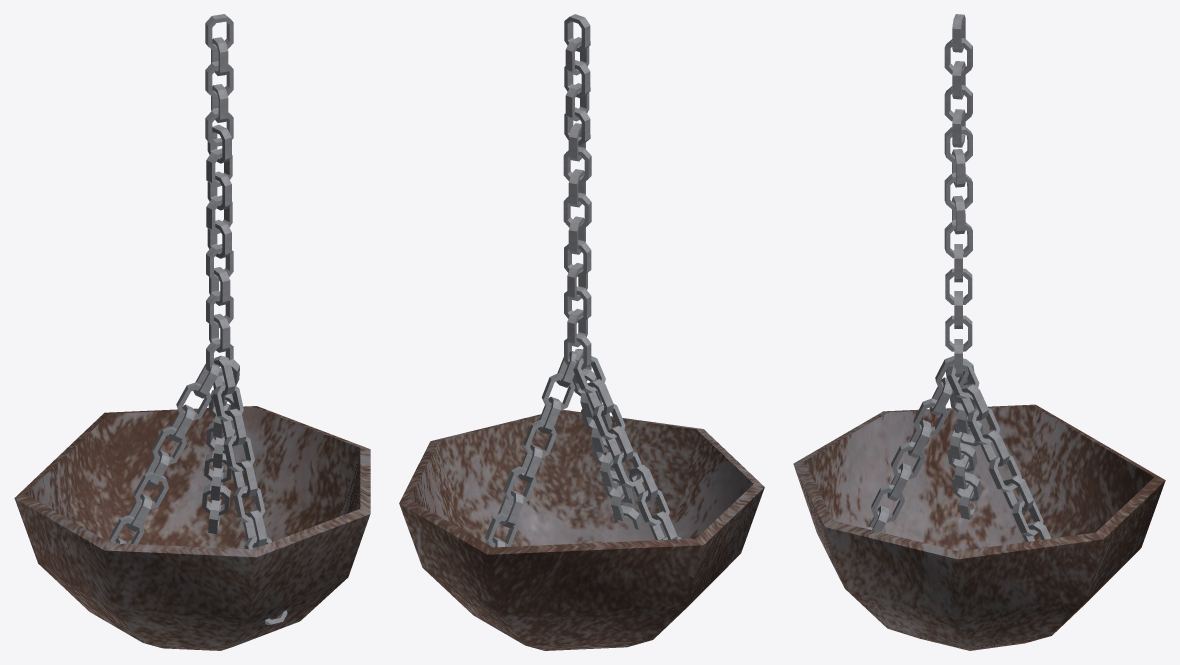
Rendered from lamp.fbx.
The picture shows the model from 3 angles, left to right: view 1: azimuth 30°, elevation 25°; view 2: azimuth 150°, elevation 25°; view 3: azimuth 270°, elevation 25°; orthographic projection.
Visible parts, largest first — view 1: accs.002; view 2: accs.002; view 3: accs.002.
Part boxes in pixels (x1=…): accs.002: x1=14, y1=14, x2=370, y2=650; accs.002: x1=399, y1=14, x2=764, y2=650; accs.002: x1=793, y1=14, x2=1165, y2=650.
Bounding box in the file's own units: 15.94 × 29.77 × 16.2.
Materials: 1 (1 with a texture image).
